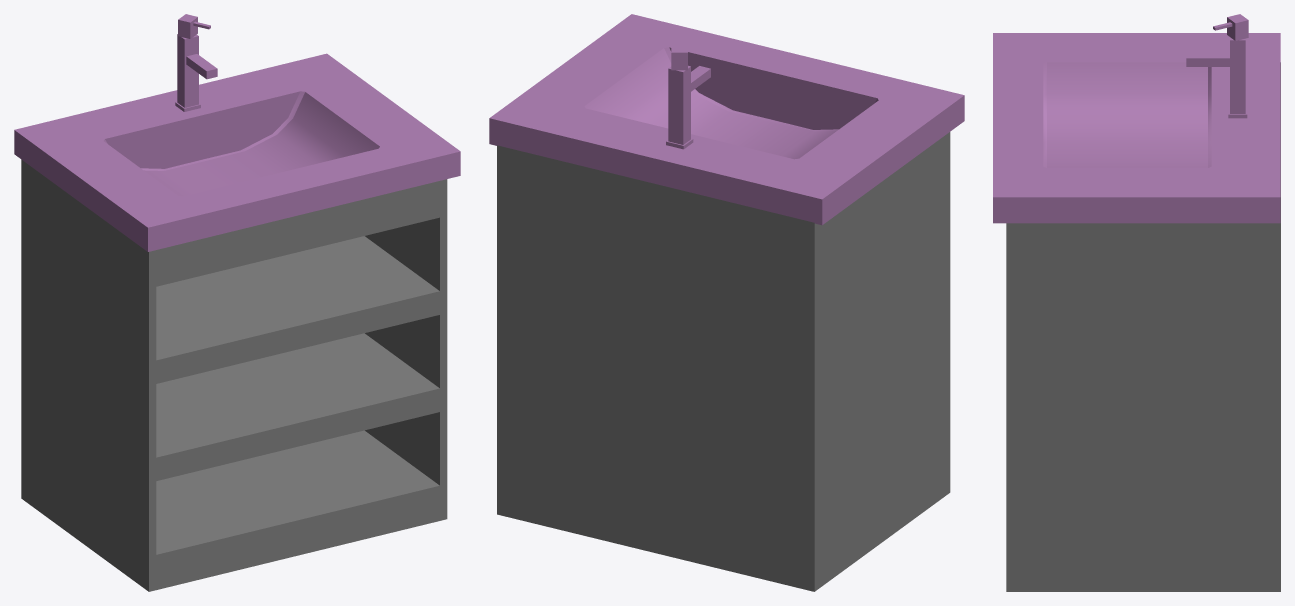
The model's file is SalleDeBainLavaboSimple.fbx.
3 renders of one model, left to right at view 1: azimuth 30°, elevation 25°; view 2: azimuth 150°, elevation 25°; view 3: azimuth 270°, elevation 25°, orthographic. The views are drawn at different scales.
Visible parts, largest first — view 1: SalleDeBainLavaboSimple; view 2: SalleDeBainLavaboSimple; view 3: SalleDeBainLavaboSimple.
Boxes of the visible parts, x1=… form: SalleDeBainLavaboSimple: x1=14, y1=14, x2=460, y2=591; SalleDeBainLavaboSimple: x1=489, y1=14, x2=964, y2=591; SalleDeBainLavaboSimple: x1=993, y1=14, x2=1280, y2=591.
Size of the model in its own units: 84.92 by 119 by 62.92.
